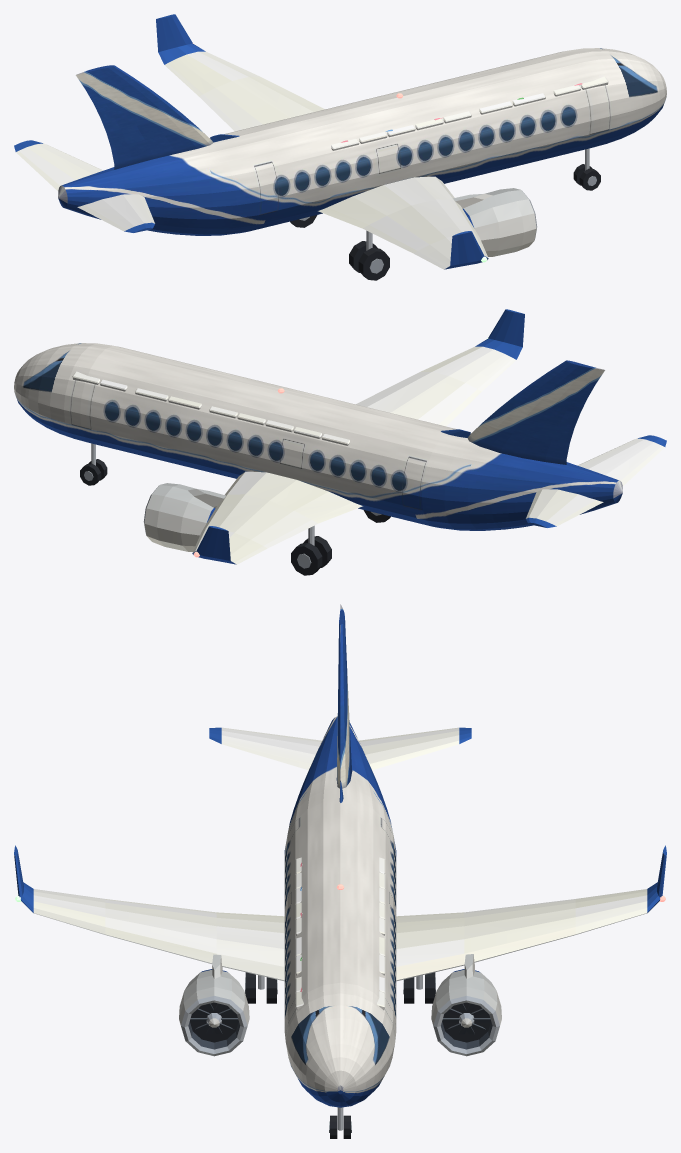
Rendered from aviao.glb.
3 renders of one model, top to bottom at view 1: azimuth 30°, elevation 25°; view 2: azimuth 150°, elevation 25°; view 3: azimuth 270°, elevation 25°, orthographic. The views are drawn at different scales.
Visible parts, largest first — view 1: Fuselagem, Asa_Direita, Deriva, Asa_Esquerda, Fuselagem_Corte, Motor_Direito, Estabilizador_Esquerdo, Trem_de_Pouso, Estabilizador_Direito, Bagageiros; view 2: Fuselagem_Corte, Fuselagem, Asa_Esquerda, Deriva, Asa_Direita, Motor_Esquerdo, Estabilizador_Direito, Trem_de_Pouso, Estabilizador_Esquerdo, Bagageiros_Lado_Corte; view 3: Fuselagem_Corte, Fuselagem, Asa_Esquerda, Asa_Direita, Motor_Esquerdo, Motor_Direito, Estabilizador_Esquerdo, Estabilizador_Direito, Deriva, Trem_de_Pouso, Bagageiros_Lado_Corte, Bagageiros.
Boxes of the visible parts, <box> form: Fuselagem: <box>58,57,666,235</box>; Asa_Direita: <box>318,176,488,269</box>; Deriva: <box>76,65,239,169</box>; Asa_Esquerda: <box>156,14,324,131</box>; Fuselagem_Corte: <box>156,48,642,163</box>; Motor_Direito: <box>453,188,537,256</box>; Estabilizador_Esquerdo: <box>14,140,102,191</box>; Trem_de_Pouso: <box>290,148,600,280</box>; Estabilizador_Direito: <box>77,194,154,232</box>; Bagageiros: <box>331,76,608,150</box>; Fuselagem_Corte: <box>25,343,520,514</box>; Fuselagem: <box>14,346,622,530</box>; Asa_Esquerda: <box>192,471,362,564</box>; Deriva: <box>441,360,604,464</box>; Asa_Direita: <box>356,309,524,426</box>; Motor_Esquerdo: <box>143,483,225,551</box>; Estabilizador_Direito: <box>578,435,666,486</box>; Trem_de_Pouso: <box>80,443,390,575</box>; Estabilizador_Esquerdo: <box>526,489,603,527</box>; Bagageiros_Lado_Corte: <box>72,371,349,445</box>; Fuselagem_Corte: <box>323,760,396,1082</box>; Fuselagem: <box>284,716,384,1107</box>; Asa_Esquerda: <box>396,845,666,981</box>; Asa_Direita: <box>14,845,284,981</box>; Motor_Esquerdo: <box>431,954,501,1056</box>; Motor_Direito: <box>179,954,249,1056</box>; Estabilizador_Esquerdo: <box>359,727,471,770</box>; Estabilizador_Direito: <box>209,727,321,770</box>; Deriva: <box>336,604,352,802</box>; Trem_de_Pouso: <box>245,972,435,1138</box>; Bagageiros_Lado_Corte: <box>377,857,385,1010</box>; Bagageiros: <box>295,857,303,1009</box>.
Bounding box in the file's own units: 31 × 11.6 × 26.39.
Materials: 10 (2 with a texture image).
